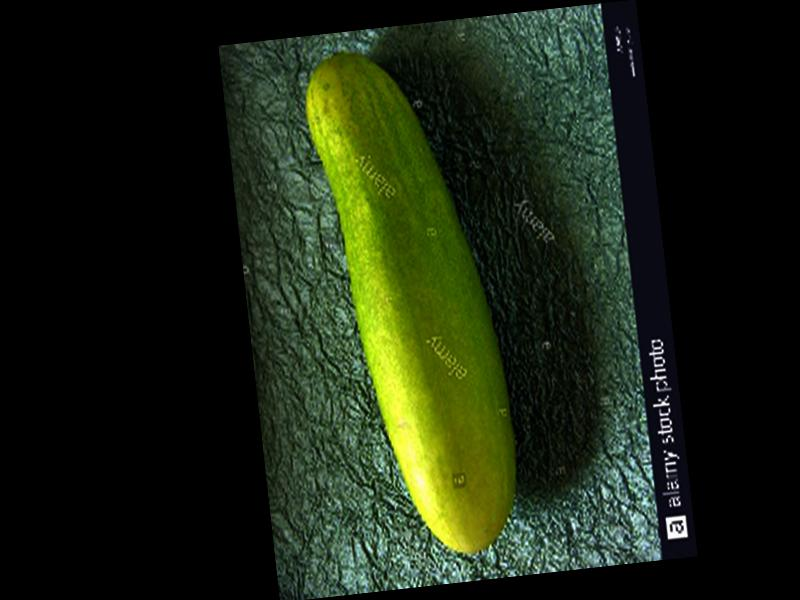Cucumber: (299, 37, 525, 566)
